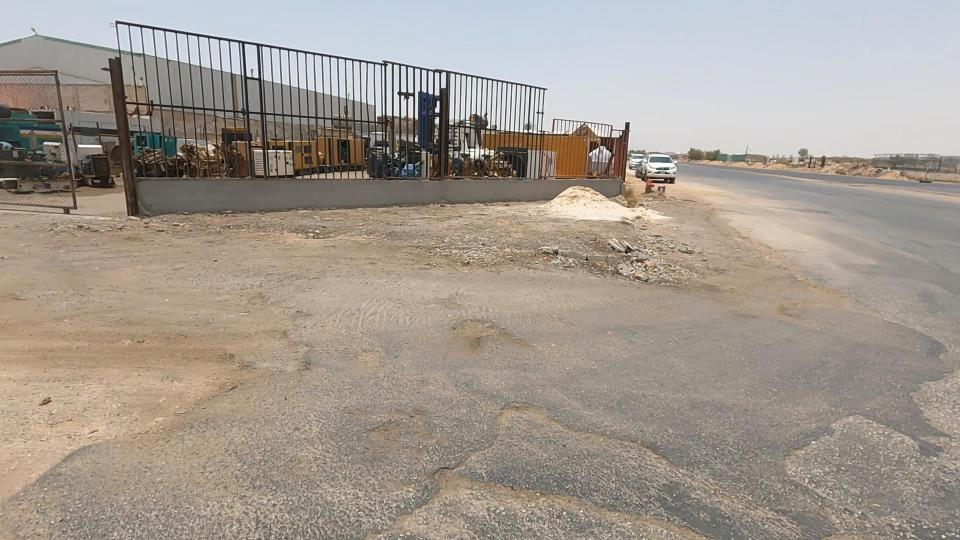POTHOLES: (296, 319, 793, 540), (0, 256, 440, 456), (657, 340, 960, 540), (687, 192, 908, 378), (0, 306, 162, 535)
SAND_ON_ROAD: (486, 156, 677, 236)
